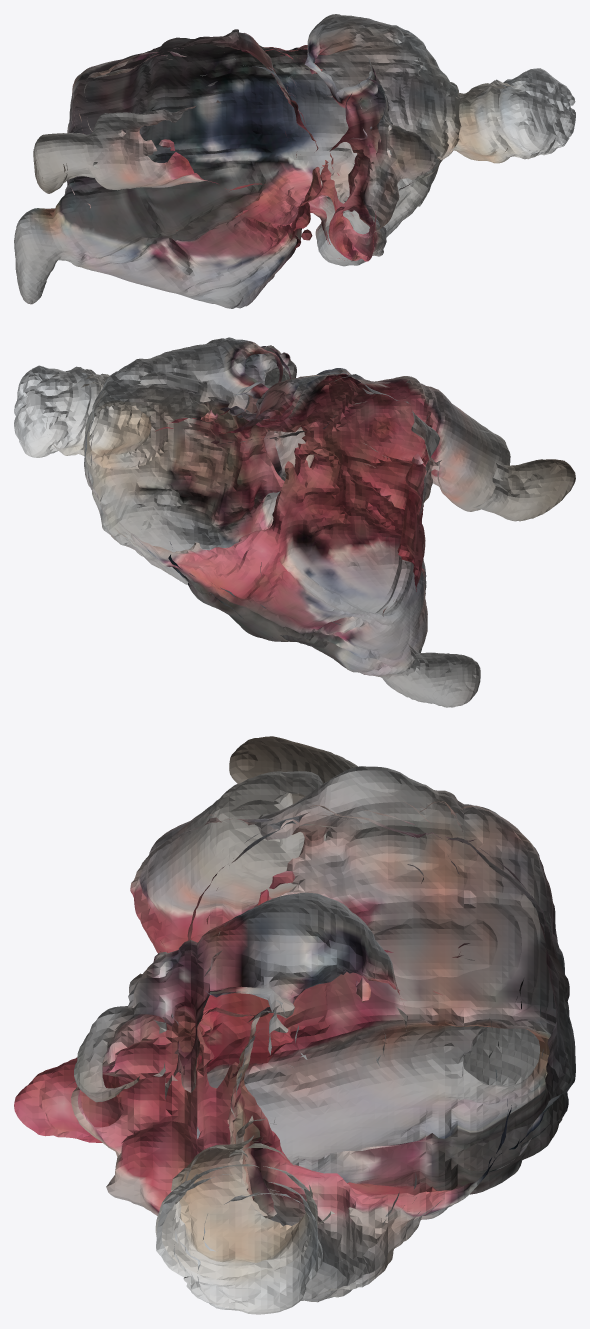
The model's file is royal_doulton_ai.glb.
The picture shows the model from 3 angles, top to bottom: view 1: azimuth 30°, elevation 25°; view 2: azimuth 150°, elevation 25°; view 3: azimuth 270°, elevation 25°; orthographic projection. The views are drawn at different scales.
Visible parts, largest first — view 1: world; view 2: world; view 3: world.
Boxes of the visible parts, x1,y1,x2,y2 form: world: (14, 14, 575, 308); world: (14, 337, 575, 707); world: (14, 736, 575, 1314).
Bounding box in the file's own units: 1.07 × 0.4838 × 0.604.
